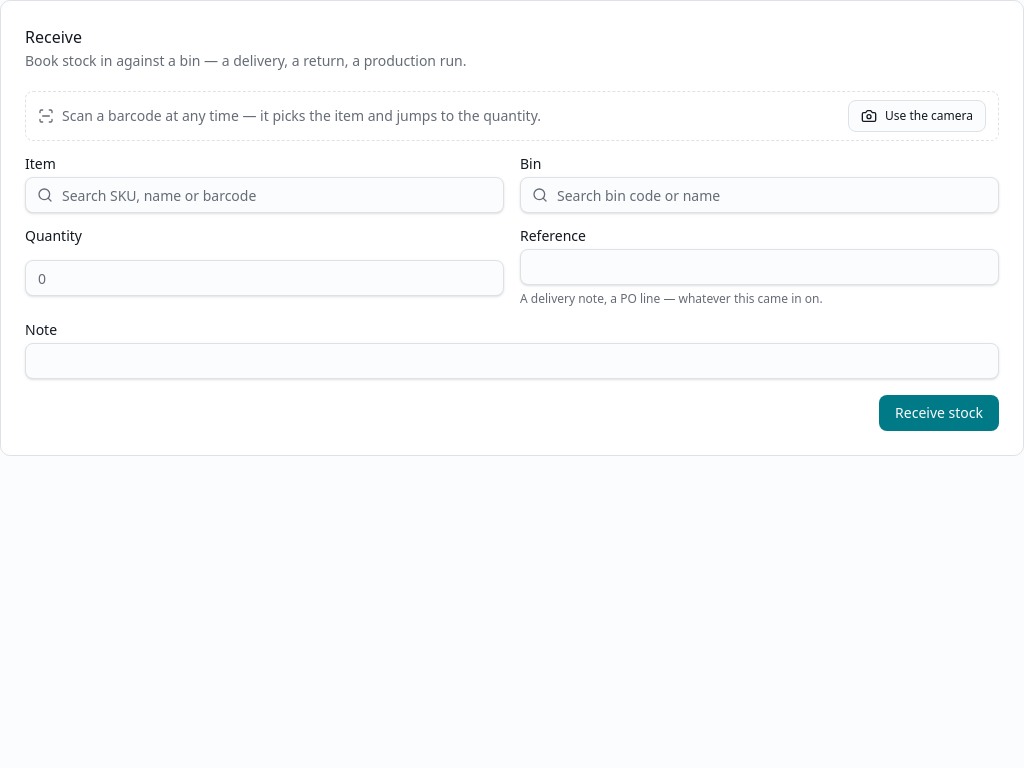
it: scanning into a movement form › says plainly when the browser cannot read barcodes from the camera
The width and height of the screenshot is (1024, 768).
Click the button "Use the camera" at (917, 116), box [848,100,986,132]
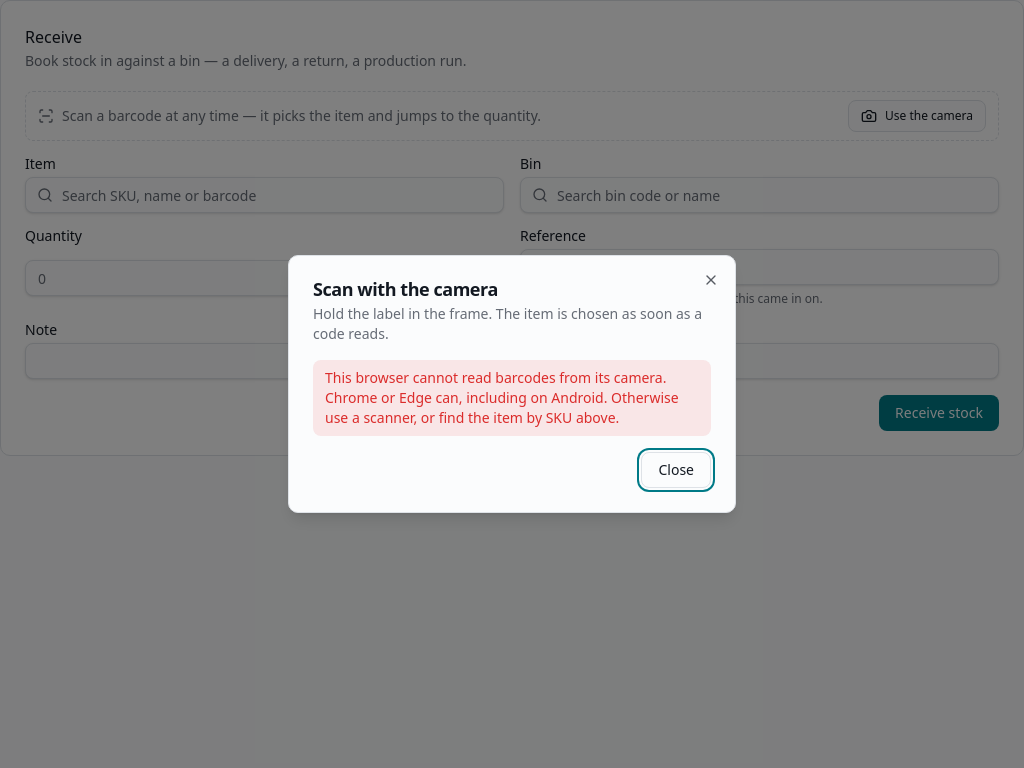
Expected: the message shows "cannot read barcodes from its camera", [325,368,679,427]
